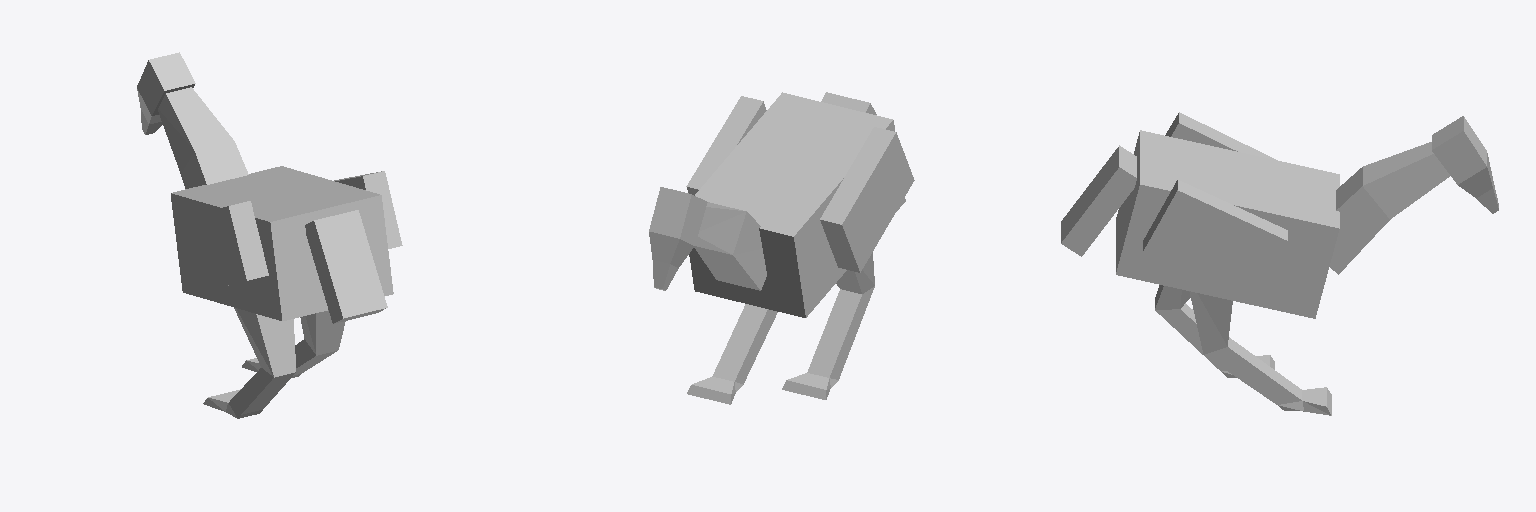
File: Ostrich_000139.obj
3 renders of one model, left to right at view 1: azimuth 30°, elevation 25°; view 2: azimuth 150°, elevation 25°; view 3: azimuth 270°, elevation 25°, orthographic.
Visible parts, largest first — view 1: Cube_Cube.001; view 2: Cube_Cube.001; view 3: Cube_Cube.001.
Boxes of the visible parts, x1=… form: Cube_Cube.001: x1=137, y1=52, x2=402, y2=418; Cube_Cube.001: x1=649, y1=92, x2=914, y2=404; Cube_Cube.001: x1=1061, y1=112, x2=1498, y2=415.
Bounding box in the file's own units: 0.7 × 1.14 × 1.71.